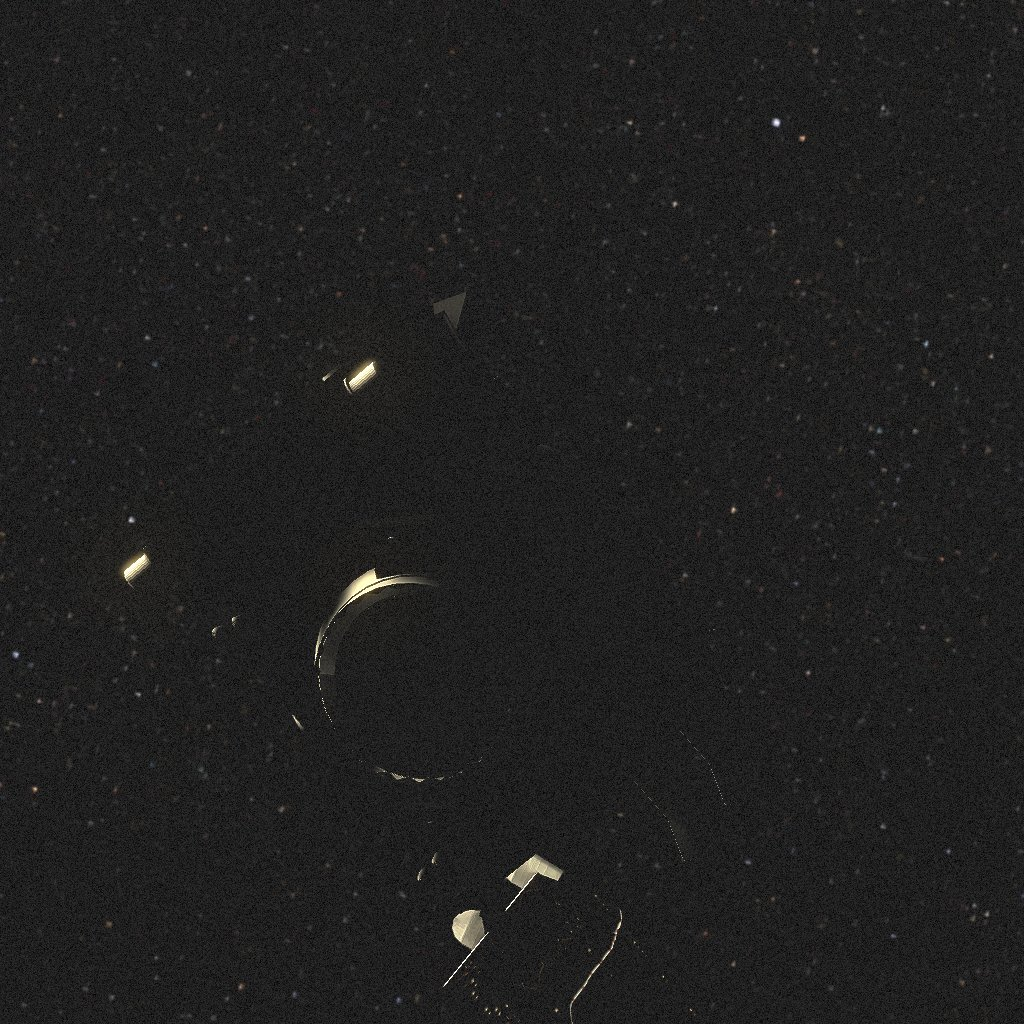proba_3_csc: (96, 275, 767, 997)
